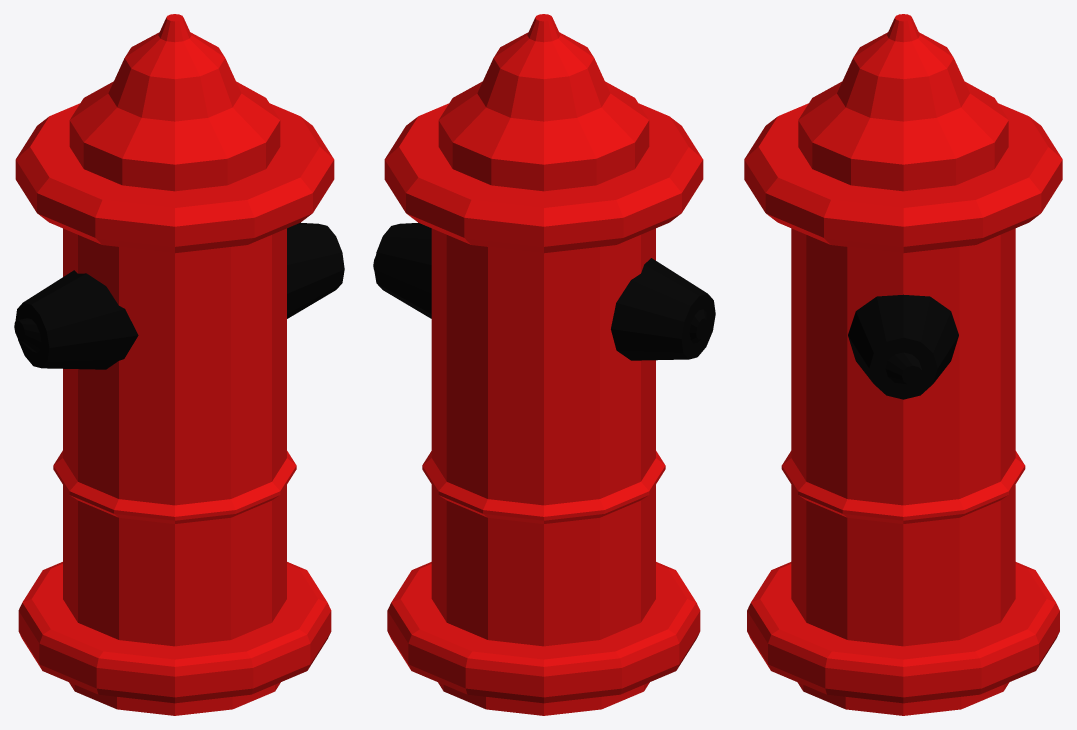
The model's file is firehydrant (1).fbx.
3 renders of one model, left to right at view 1: azimuth 30°, elevation 25°; view 2: azimuth 150°, elevation 25°; view 3: azimuth 270°, elevation 25°, orthographic.
Parts seen in each view (by area): view 1: Circle; view 2: Circle; view 3: Circle.
Boxes of the visible parts, left/top/right/bottom form: Circle: left=14, top=14, right=344, bottom=715; Circle: left=373, top=14, right=715, bottom=715; Circle: left=744, top=14, right=1062, bottom=715.
Size of the model in its own units: 317 by 619 by 275.
